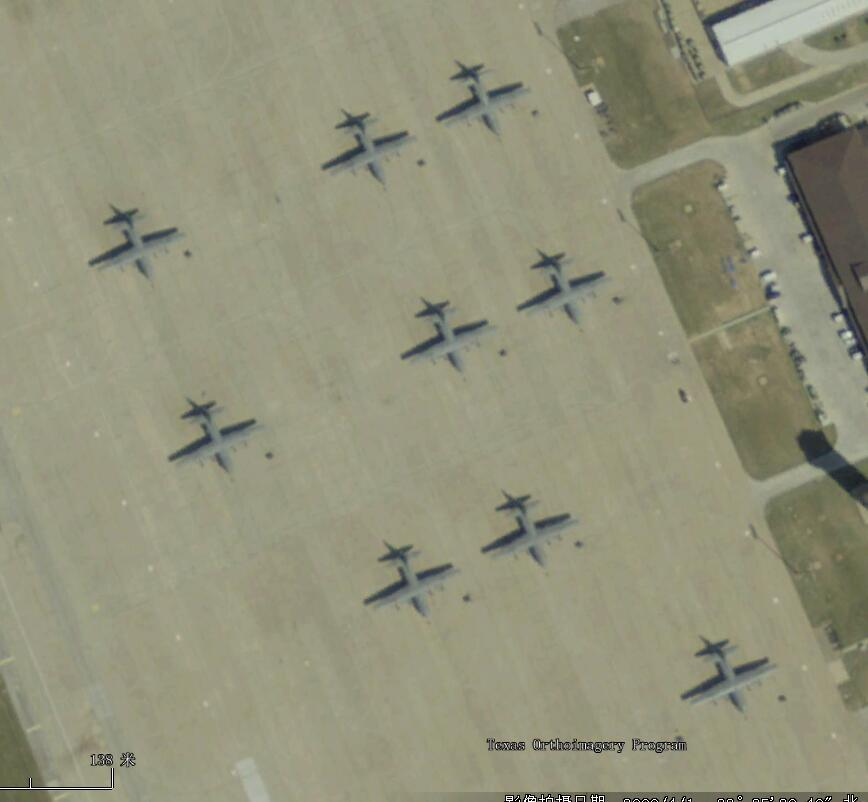A2: (314, 105, 418, 191), (396, 293, 498, 380), (478, 486, 582, 570), (162, 398, 269, 479), (431, 55, 535, 138), (359, 539, 463, 622), (85, 203, 188, 286), (678, 633, 779, 716), (510, 244, 612, 325)
